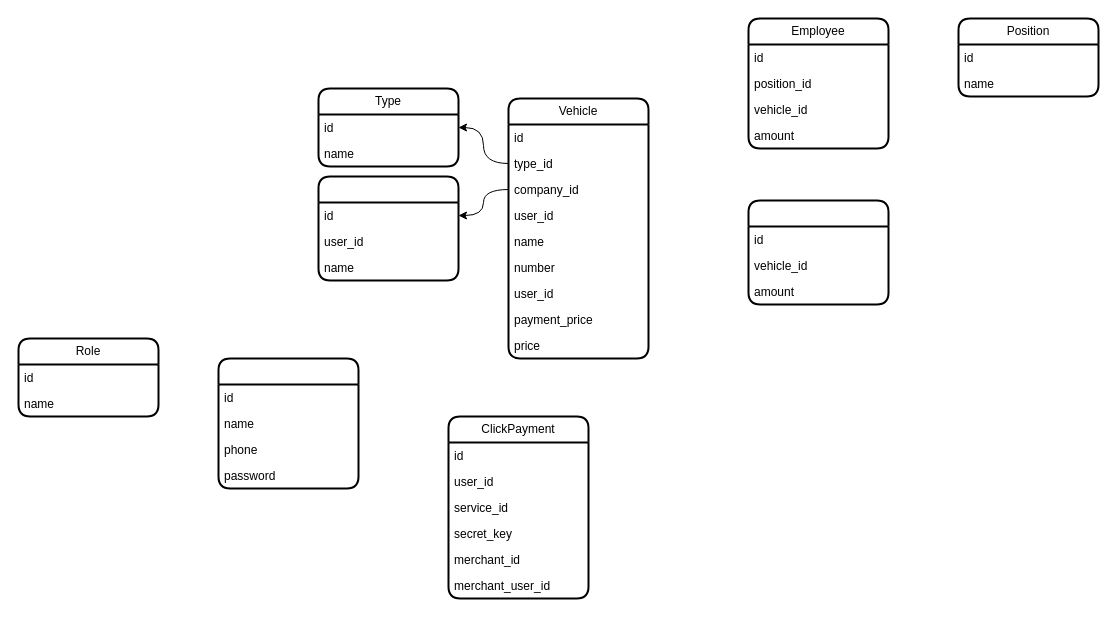
Image size: 1116x618. Some labels were removed from this diagram. The shapes that lost their labels are listed below. From the top down, each one's box as (x1, y1, x2, y2) in pixels, then its label:
(317, 175, 459, 281): Company
(747, 199, 889, 305): Payment
(217, 357, 359, 489): User
